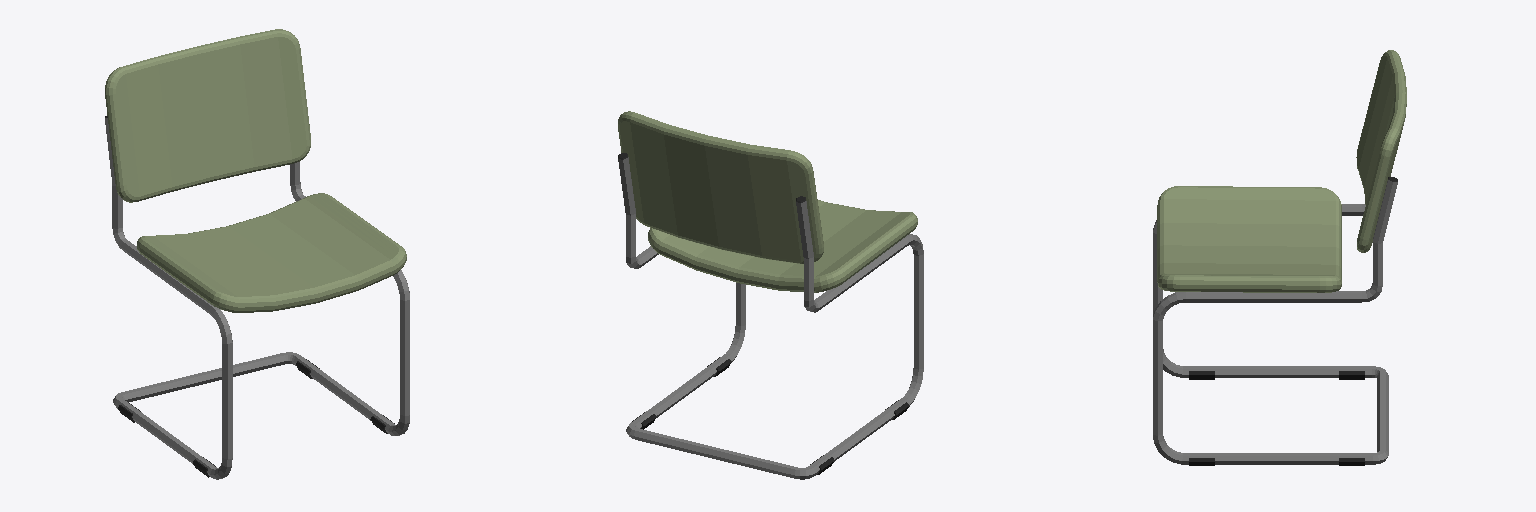
Rendered from officechair.obj.
The picture shows the model from 3 angles: view 1: azimuth 30°, elevation 25°; view 2: azimuth 150°, elevation 25°; view 3: azimuth 270°, elevation 25°; orthographic projection.
Size of the model in its own units: 4.87 by 7.92 by 5.52.